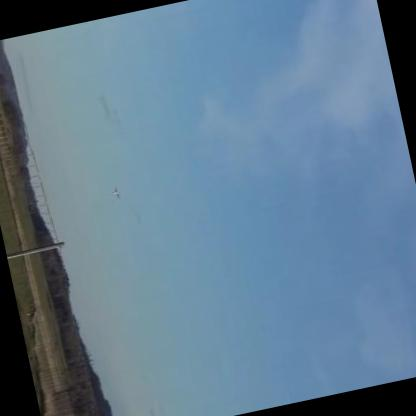plane: (110, 186, 121, 201)
